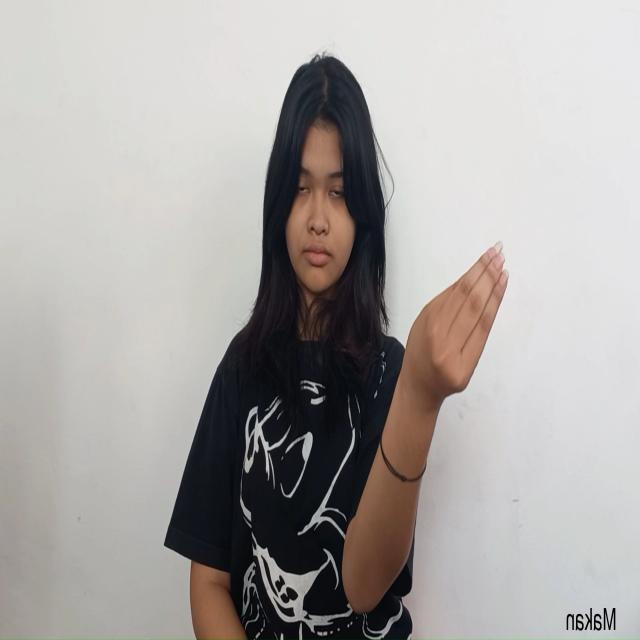Makan -BISINDO-: (401, 237, 512, 433)
